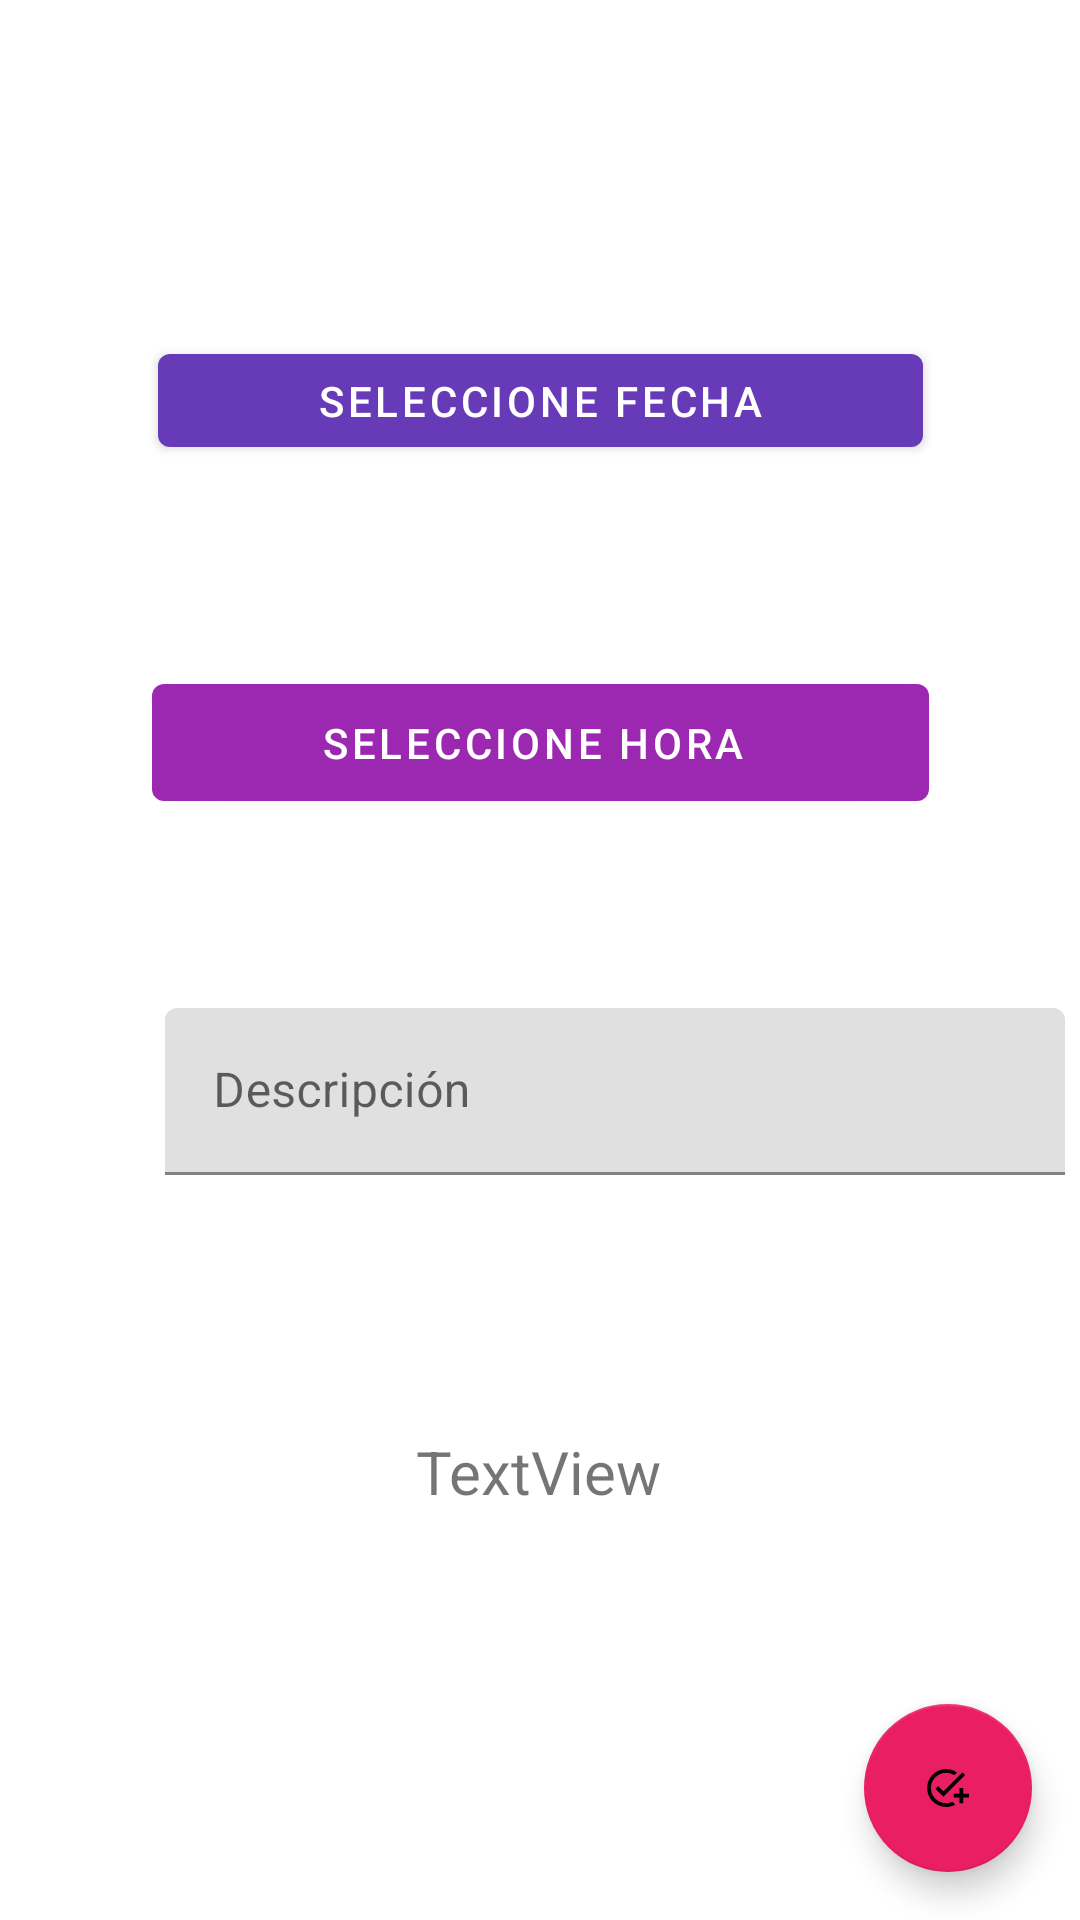

Icons on this 1080*1920 Android screen, each with its box as (x1, y1, x2, y2):
accept: (864, 1704, 1032, 1872)
